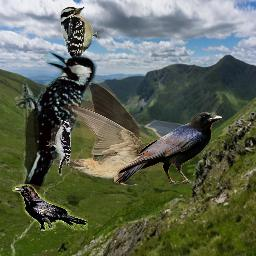Crow: (114, 111, 222, 184), (12, 184, 88, 231)
Swallow: (51, 82, 166, 187)
Woodpecker: (14, 50, 99, 195), (59, 5, 104, 79), (45, 118, 72, 176)
